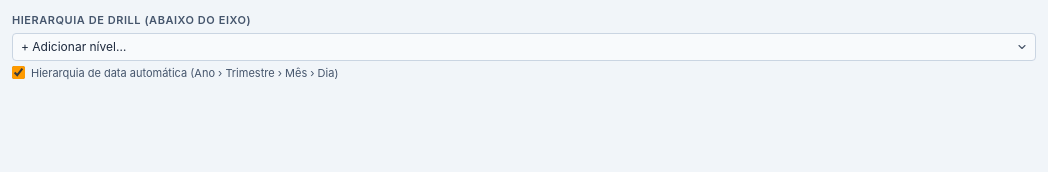
Test: DrillLevelsEditor (painel Visualizações) › gráfico: níveis abaixo do eixo vão para drillFields; hierarquia de data automática liga/desliga
The image size is (1048, 172).
Click the checkbox labelled "Hierarquia de data automática (Ano › Trimestre › Mês › Dia)": x=18, y=73 [12,66,25,79]
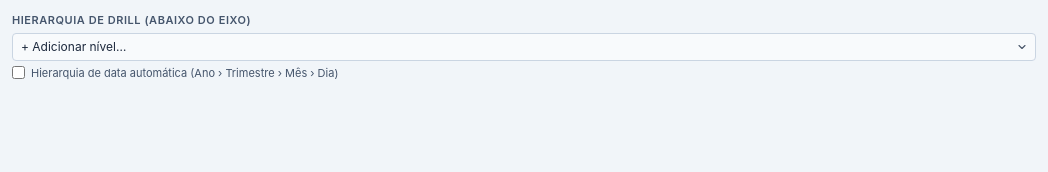
Click the checkbox labelled "Hierarquia de data automática (Ano › Trimestre › Mês › Dia)": x=18, y=73 [12,66,25,79]
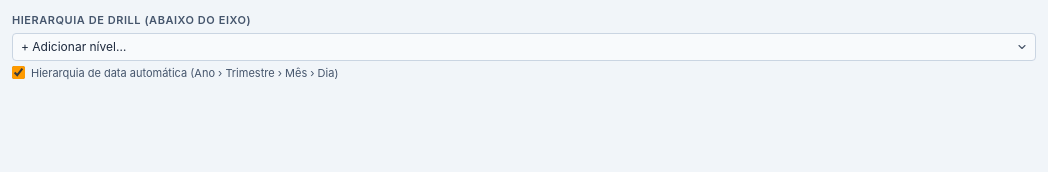
Select "Loja" in the dropdown named "Adicionar nível": x=524, y=46 [12,32,1036,60]
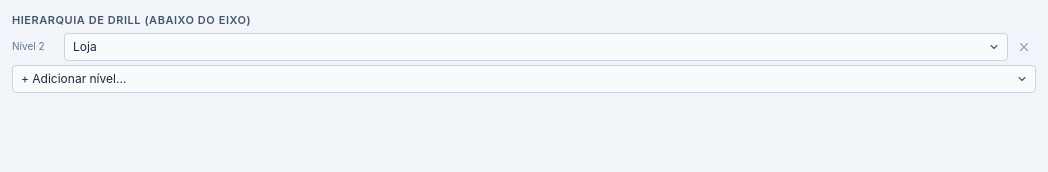
Expected: the label "Hierarquia de data automática" is gone
